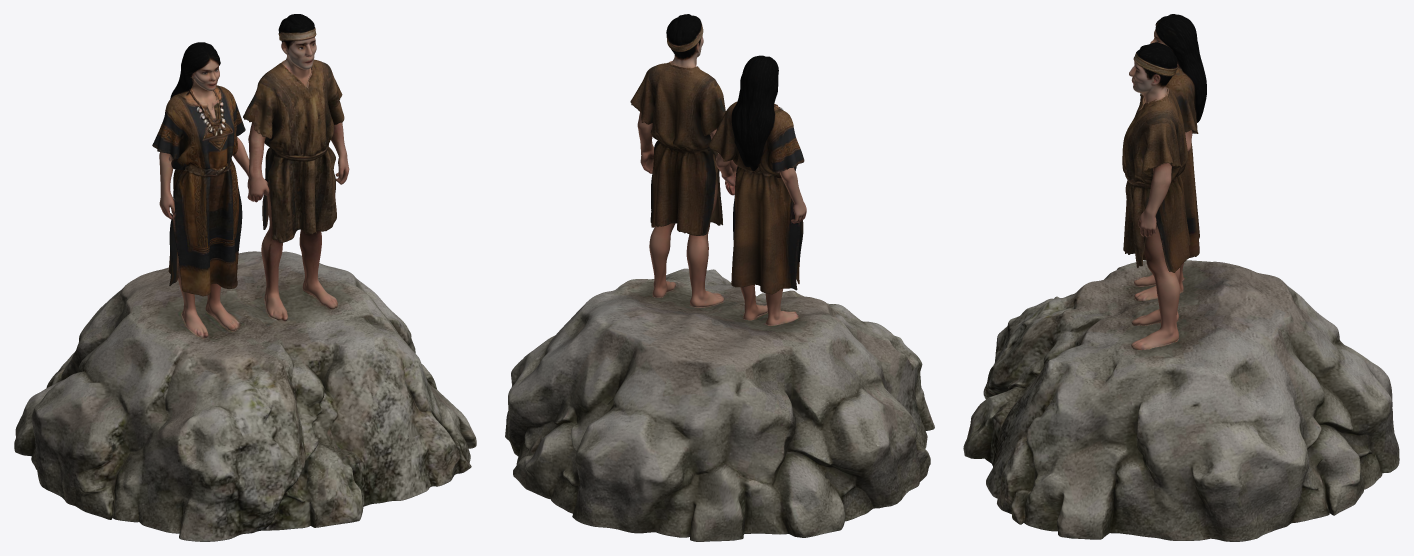
Rendered from 74-piedra-del-indio-piel-roja-optimized.glb.
The picture shows the model from 3 angles, left to right: view 1: azimuth 30°, elevation 25°; view 2: azimuth 150°, elevation 25°; view 3: azimuth 270°, elevation 25°; orthographic projection. The views are drawn at different scales.
Parts seen in each view (by area): view 1: tripo_node_2b1803de-dfd5-419f-9b27-bbb94ab43f2d; view 2: tripo_node_2b1803de-dfd5-419f-9b27-bbb94ab43f2d; view 3: tripo_node_2b1803de-dfd5-419f-9b27-bbb94ab43f2d.
Boxes of the visible parts, x1,y1,x2,y2 form: tripo_node_2b1803de-dfd5-419f-9b27-bbb94ab43f2d: (14,14,476,541); tripo_node_2b1803de-dfd5-419f-9b27-bbb94ab43f2d: (505,14,934,541); tripo_node_2b1803de-dfd5-419f-9b27-bbb94ab43f2d: (963,14,1399,541).
Size of the model in its own units: 0.9245 by 1 by 0.9205.
Materials: 1 (1 with a texture image).
